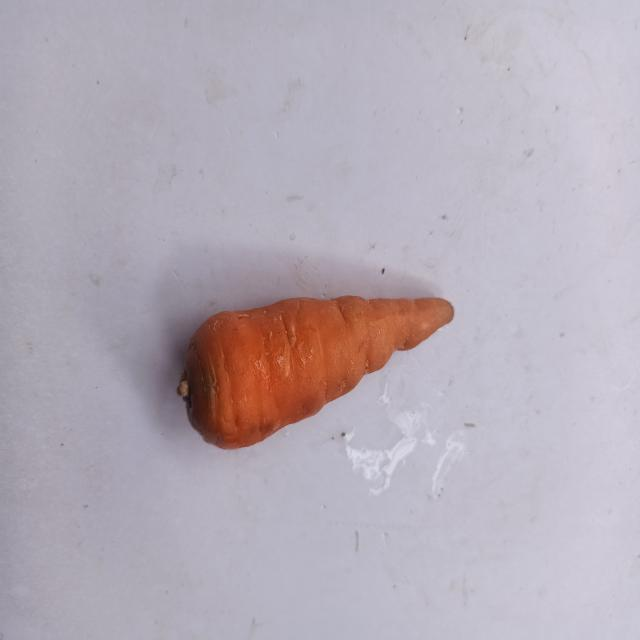Carrot: (157, 272, 473, 468)
